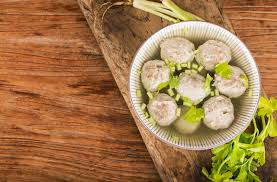bakso: (139, 37, 254, 136)
